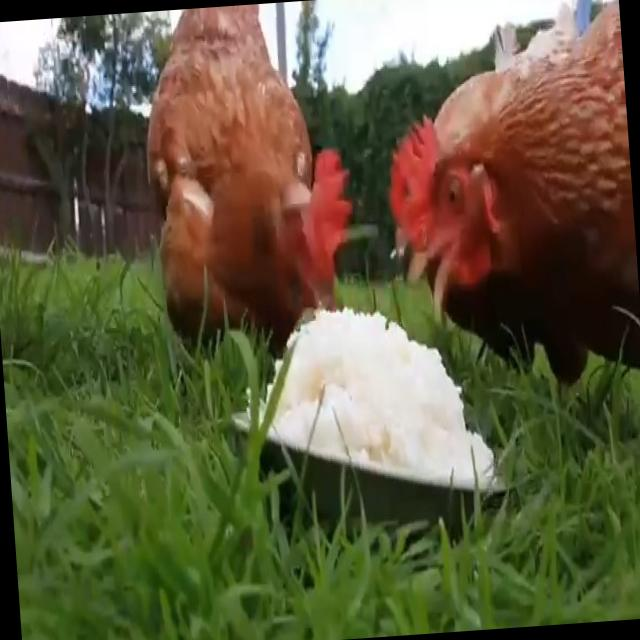feeding: (136, 0, 374, 407)
